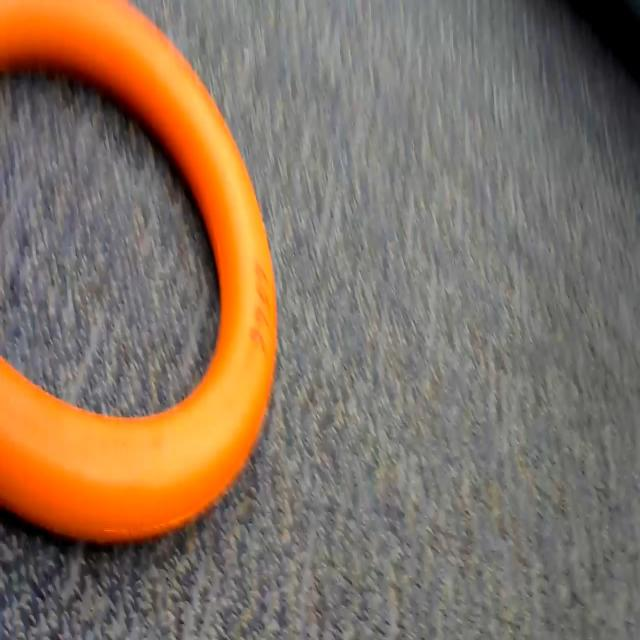note: (0, 0, 282, 570)
